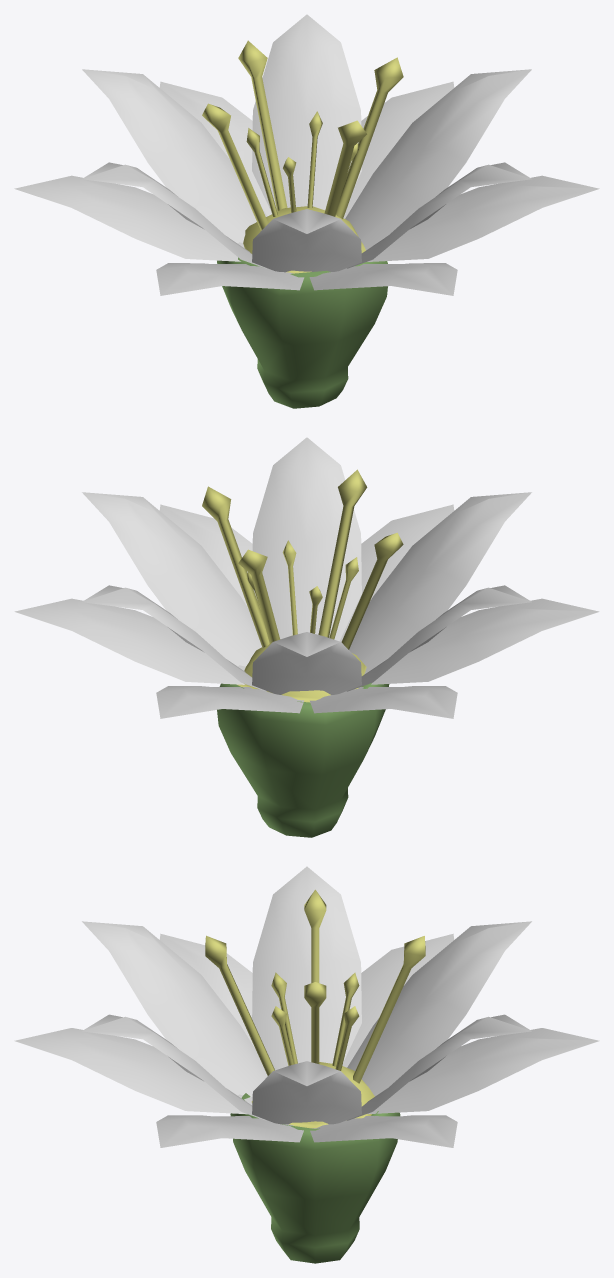
File: MOD_Flower01_v2.fbx
3 renders of one model, top to bottom at view 1: azimuth 30°, elevation 25°; view 2: azimuth 150°, elevation 25°; view 3: azimuth 270°, elevation 25°, orthographic.
Visible parts, largest first — view 1: MOD_Flower01; view 2: MOD_Flower01; view 3: MOD_Flower01.
Boxes of the visible parts, x1,y1,x2,y2 form: MOD_Flower01: (14,14,599,408); MOD_Flower01: (14,437,599,837); MOD_Flower01: (14,866,599,1263).
Bounding box in the file's own units: 8.41 × 5.7 × 9.47.
